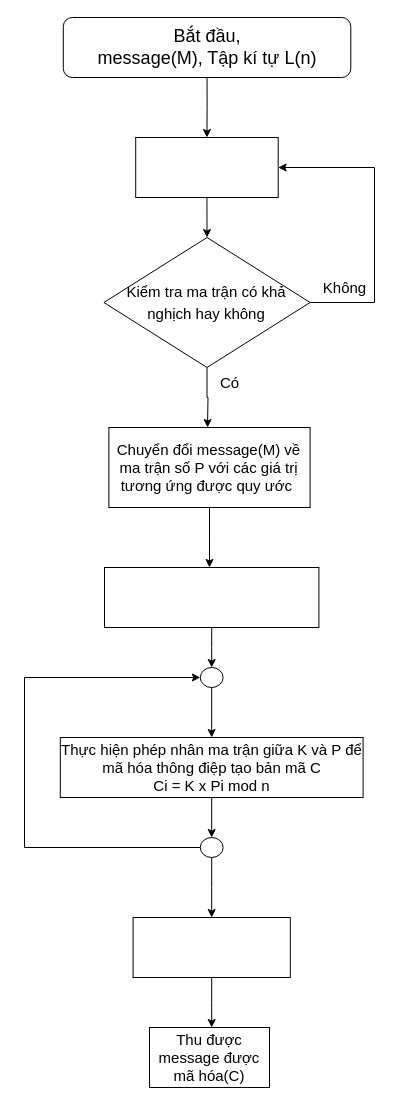
This 400x1105 diagram has some shape labels left out. Here are the shapes that lost their labels. From the top down, the box of each, then its label:
(135, 136, 278, 198): Tạo ma trận khóa mxm (K)
(104, 566, 319, 628): Lặp từ i = 1 -> N, Với N = (độ dài của message)/m
(132, 916, 290, 978): Chuyển đổi bản mã C về chuỗi kí tự tương ứng
